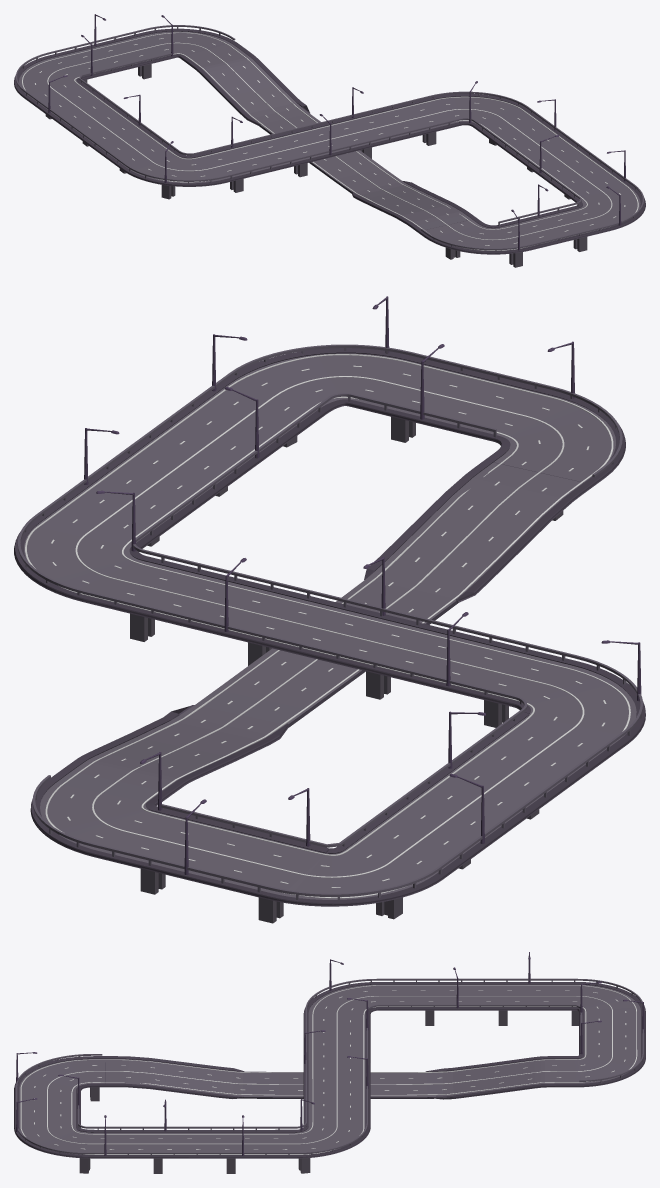
The model's file is road_real1-1.fbx.
3 renders of one model, top to bottom at view 1: azimuth 30°, elevation 25°; view 2: azimuth 150°, elevation 25°; view 3: azimuth 270°, elevation 25°, orthographic. The views are drawn at different scales.
Parts seen in each view (by area): view 1: Sweep_1, korkuluk, Sweep_2, Sweep, Sweep_3; view 2: Sweep_1, korkuluk, Sweep_2, Sweep, Sweep_3; view 3: Sweep_1, korkuluk, Sweep_2, Sweep_3, Sweep.
Part boxes in pixels (x1,y1,x2,y2): Sweep_1: (14, 28, 645, 254); korkuluk: (15, 25, 643, 250); Sweep_2: (47, 42, 612, 240); Sweep: (74, 53, 638, 250); Sweep_3: (22, 32, 587, 229); Sweep_1: (14, 348, 645, 906); korkuluk: (17, 344, 642, 896); Sweep_2: (75, 376, 584, 877); Sweep: (25, 354, 613, 855); Sweep_3: (45, 396, 630, 898); Sweep_1: (14, 982, 645, 1158); korkuluk: (16, 978, 643, 1154); Sweep_2: (47, 996, 612, 1144); Sweep_3: (71, 985, 637, 1134); Sweep: (20, 1006, 586, 1154).
Bounding box in the file's own units: 17505 × 2861 × 26512.
